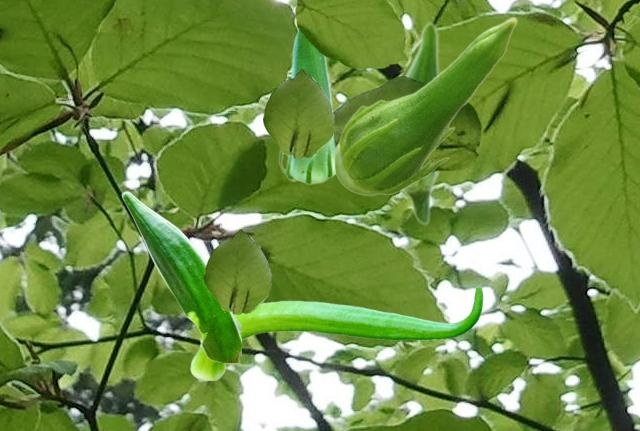okra: (333, 16, 517, 195), (190, 285, 482, 379), (121, 191, 240, 361), (278, 29, 336, 184), (401, 21, 440, 225)
